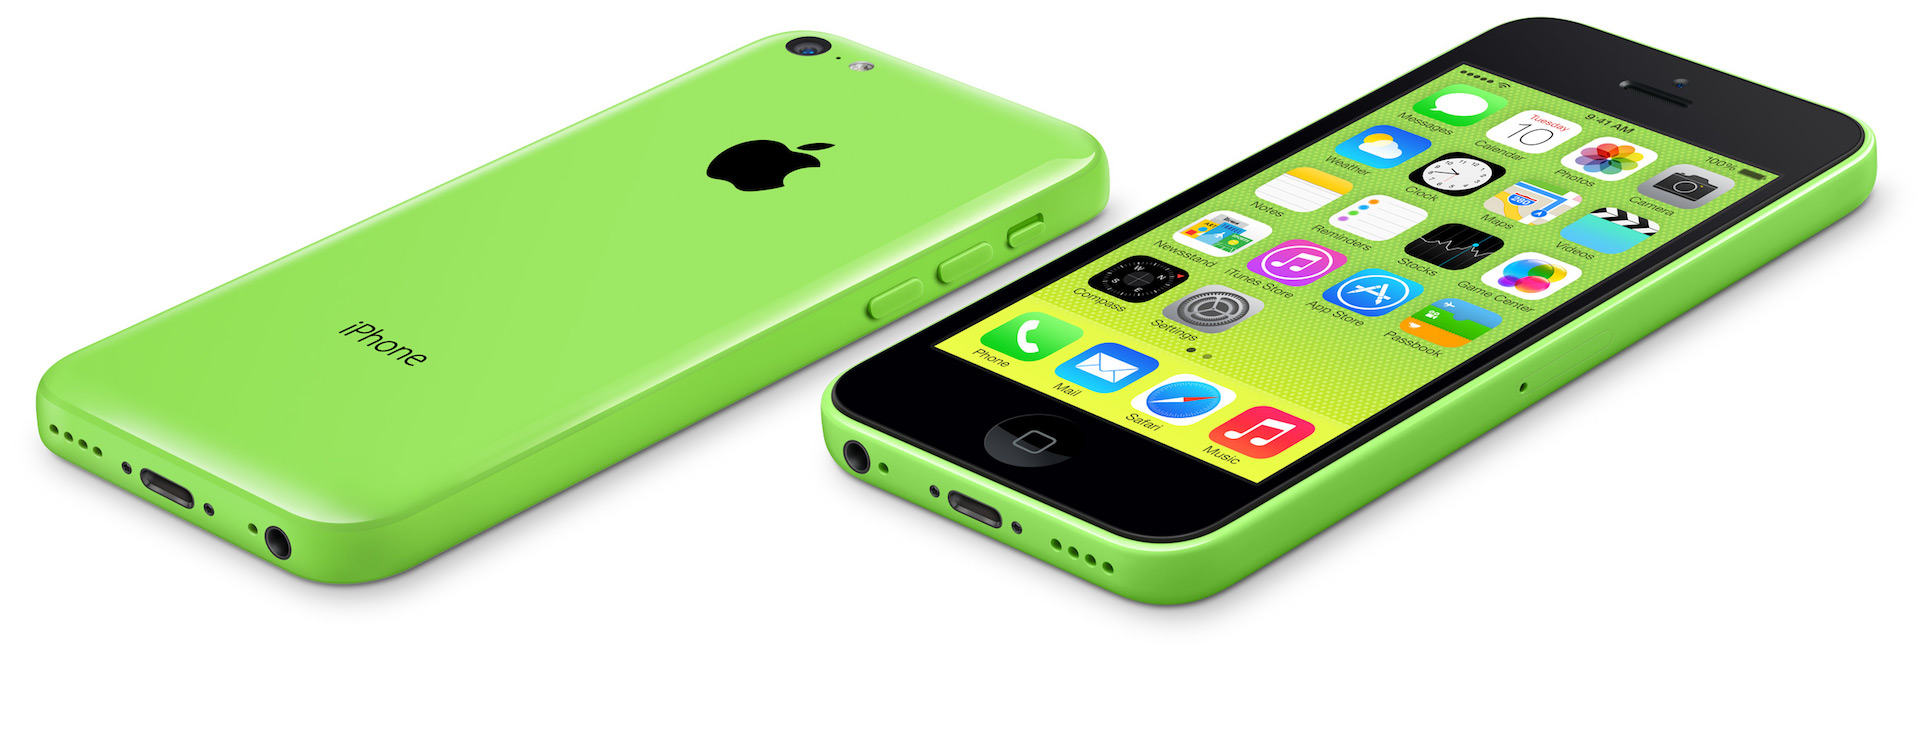smartphone: (814, 10, 1883, 615), (29, 27, 1112, 590)
